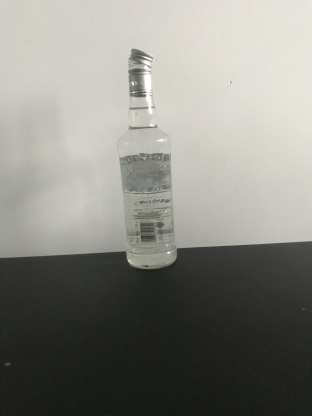nakretka: (126, 45, 155, 97)
